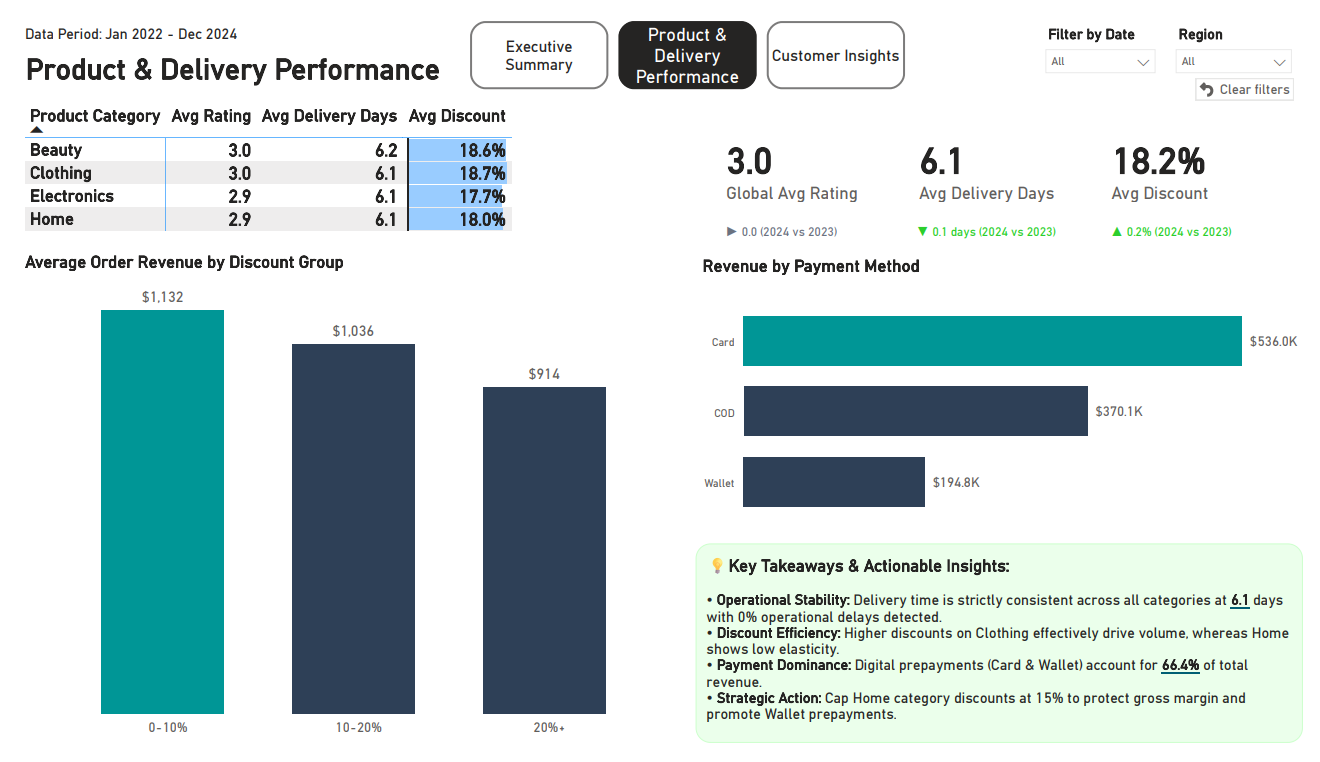

This screenshot's page, from the dashboard's own definition file:
{"tool":"powerbi","page":{"name":"Product & Delivery Performance","canvas":[1280,720],"ordinal":1},"visuals":[{"type":"pivotTable","fields":{"Rows":["Dim_Category.product_category"],"Values":["Avg(ecommerce_sales_analytics_5000.customer_rating)","_Measures.Avg Delivery Days","ecommerce_sales_analytics_5000.Average_Discount"]},"box":[0,78.3,502.9,141.4],"z":0},{"type":"clusteredColumnChart","title":"Average Order Revenue by Discount Group","fields":{"Category":["ecommerce_sales_analytics_5000.Discount_Group"],"Y":["_Measures.Average Order Value"]},"box":[0,230,676,490],"z":1000},{"type":"barChart","title":"Revenue by Payment Method","fields":{"Category":["Dim_Payment.payment_method"],"Y":["_Measures.Total Revenue"]},"box":[676.2,233.8,603.8,286.9],"z":2000},{"type":"textbox","box":[674.3,521.4,605.7,198.6],"z":3000},{"type":"cardVisual","fields":{"Data":["Avg(ecommerce_sales_analytics_5000.customer_rating)","_Measures.Avg Delivery Days","_Measures.Average Discount"]},"box":[675.7,78.6,604.3,141.4],"z":4000},{"type":"textbox","box":[0,25.7,425,43.3],"z":5000},{"type":"textbox","box":[0,0,227.1,29.7],"z":6000},{"type":"slicer","fields":{"Values":["Dim_Calendar.Year","Dim_Calendar.MonthName"]},"box":[1012.5,0,130,56.9],"z":7000},{"type":"slicer","fields":{"Values":["Dim_Customer.region"]},"box":[1142.5,0,136.9,55.4],"z":8000},{"type":"actionButton","box":[1172.9,57.1,97.9,21.4],"z":9000},{"type":"cardVisual","fields":{"Data":["_Measures.Rating YoY Formatted"]},"box":[674.6,183.1,218.5,50.8],"z":10000},{"type":"cardVisual","fields":{"Data":["_Measures.Delivery YoY Formatted"]},"box":[865,183.2,218.4,50.7],"z":11000},{"type":"pageNavigator","box":[449.2,0,433.8,67.5],"z":12000},{"type":"cardVisual","fields":{"Data":["_Measures.Avg Discount YoY Formatted"]},"box":[1058.8,183.1,188.8,50.6],"z":14000}]}

Visuals, with their boxes in screenshot pixels (x1, y1, x2, y2), scaled from the page's 1280x720 canvas onto the 1320x762 screenshot:
pivotTable - Dim_Category.product_category x Avg(ecommerce_sales_analytics_5000.customer_rating): [0,83,519,233]
"Average Order Revenue by Discount Group" clusteredColumnChart: [0,243,697,761]
"Revenue by Payment Method" barChart: [697,247,1319,551]
textbox: [695,552,1319,761]
cardVisual - Avg(ecommerce_sales_analytics_5000.customer_rating) x _Measures.Avg Delivery Days: [697,83,1319,233]
textbox: [0,27,438,73]
textbox: [0,0,234,31]
slicer - Dim_Calendar.Year x Dim_Calendar.MonthName: [1044,0,1178,60]
slicer - Dim_Customer.region: [1178,0,1319,59]
actionButton: [1210,60,1311,83]
cardVisual - _Measures.Rating YoY Formatted: [696,194,921,248]
cardVisual - _Measures.Delivery YoY Formatted: [892,194,1117,248]
pageNavigator: [463,0,911,71]
cardVisual - _Measures.Avg Discount YoY Formatted: [1092,194,1287,247]
